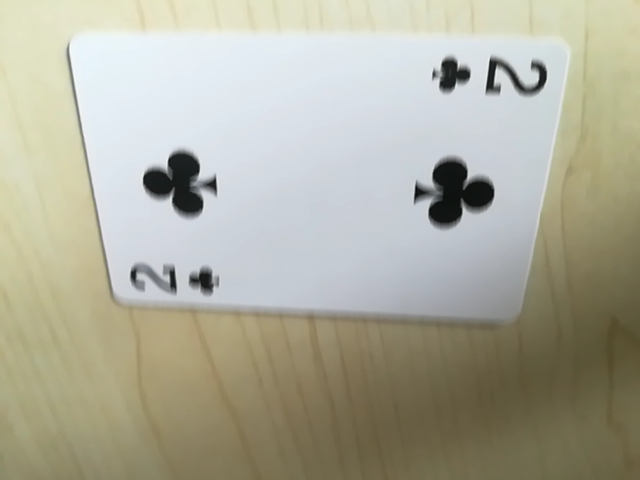mh 2: (426, 47, 550, 102), (123, 258, 225, 301)
